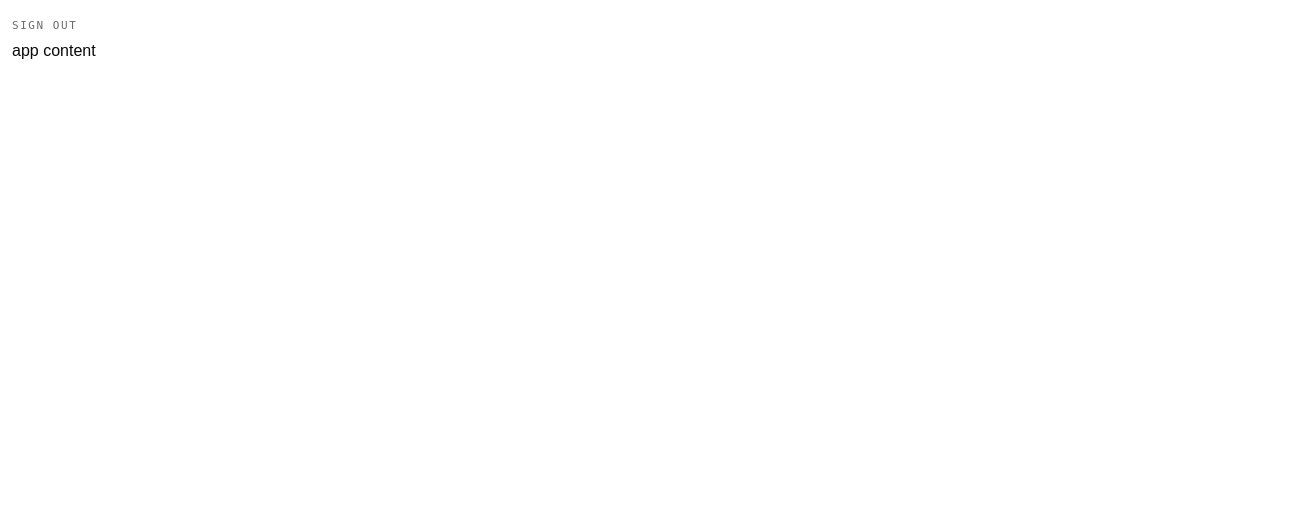
Scenario: AuthGate › signs out from the navbar link
This screenshot has width=1292, height=510.
Step 1. Click the button "Sign out" → (45, 26), box [12,14,77,38]
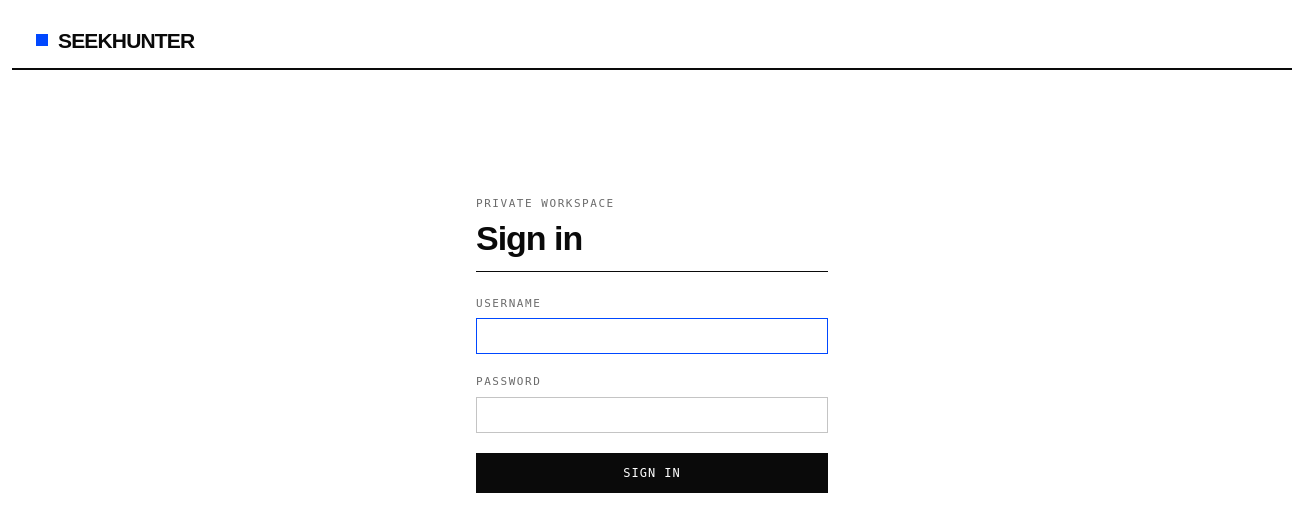
Result: the button "Sign in" is shown at [476,452,828,492]
Result: the text "app content" is gone
